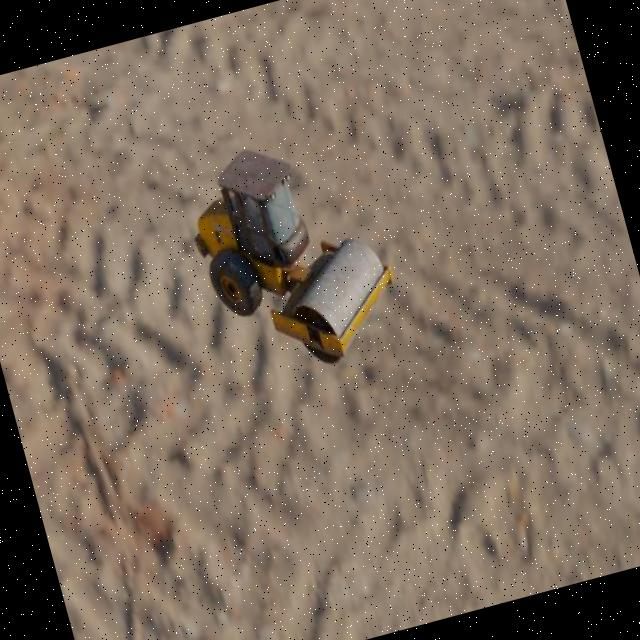Roller: (173, 120, 411, 390)
